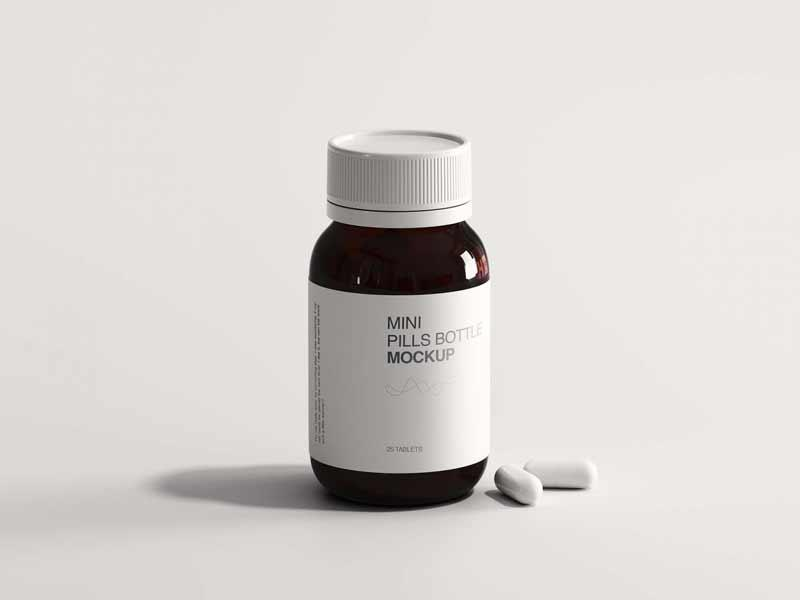jar: (305, 129, 492, 510)
